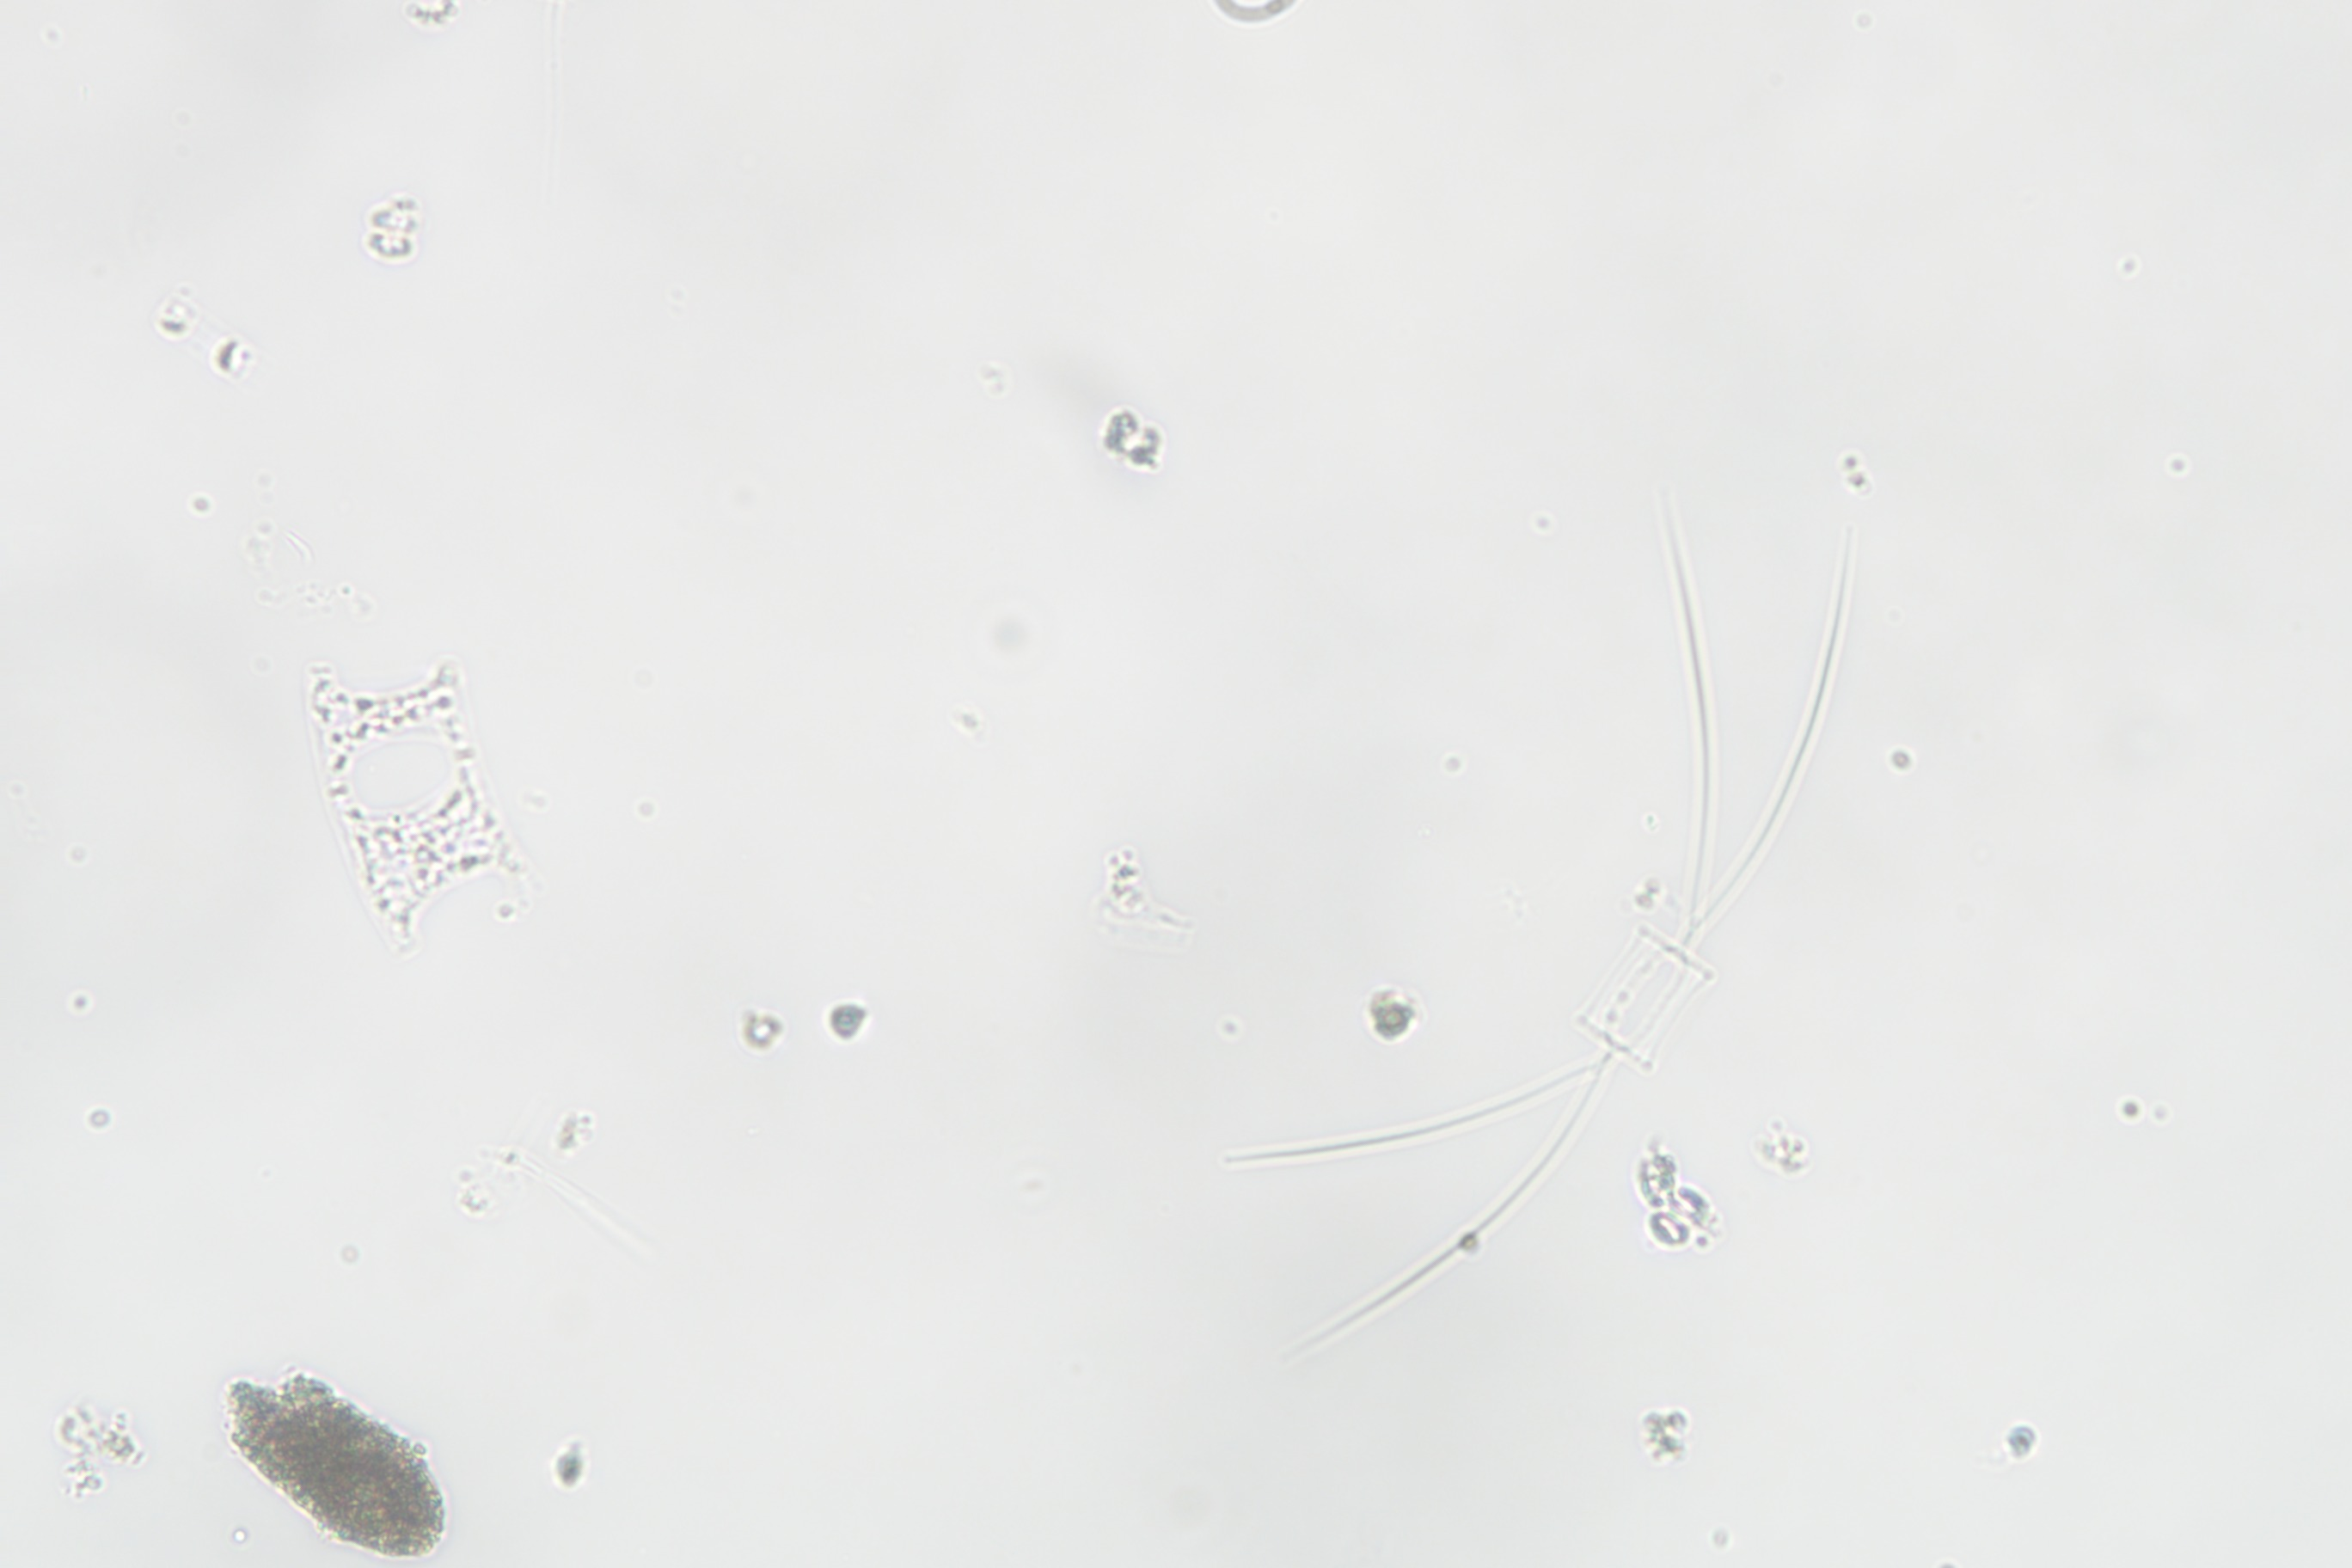chaetoceros: (1300, 455, 1864, 1353)
eucampia: (296, 647, 541, 966)
